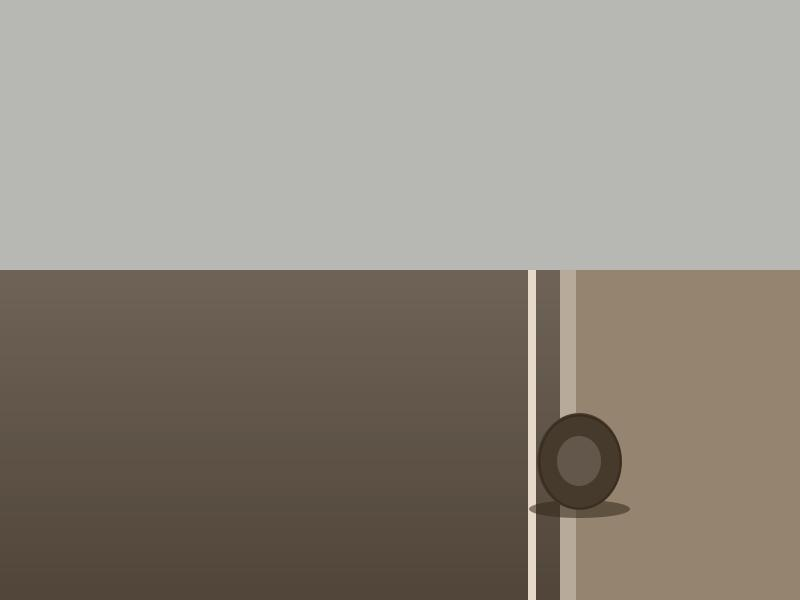ROAD_OBSTACLE: (537, 413, 622, 510)
